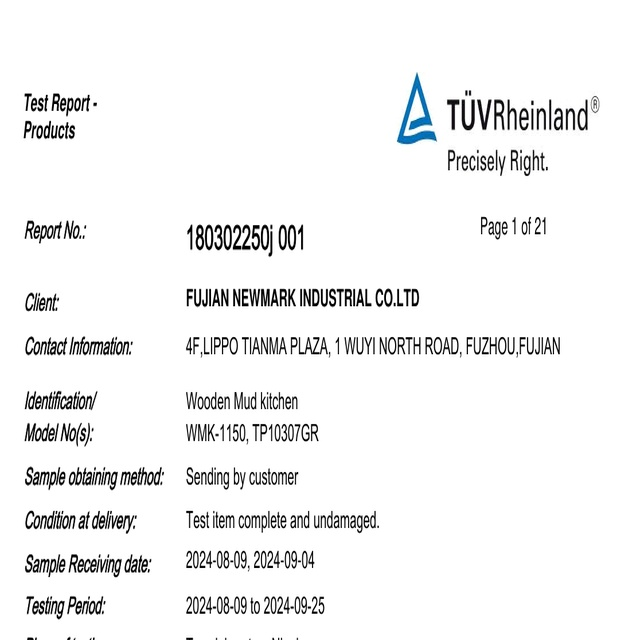tuv_rheinland: (395, 67, 605, 147)
